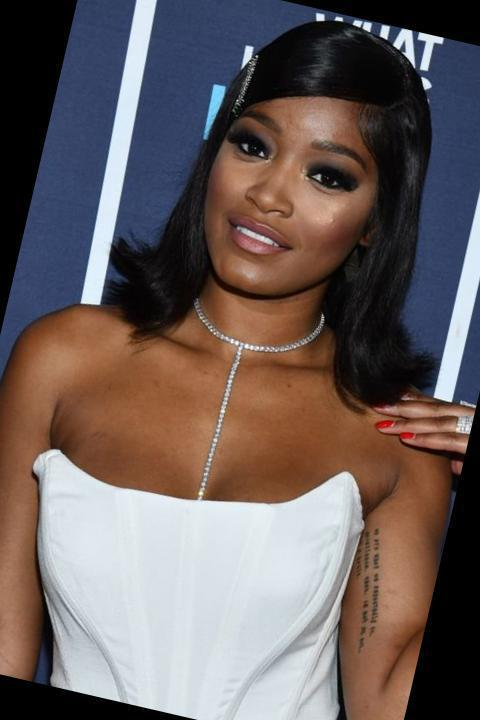Sober: (216, 99, 367, 293)
